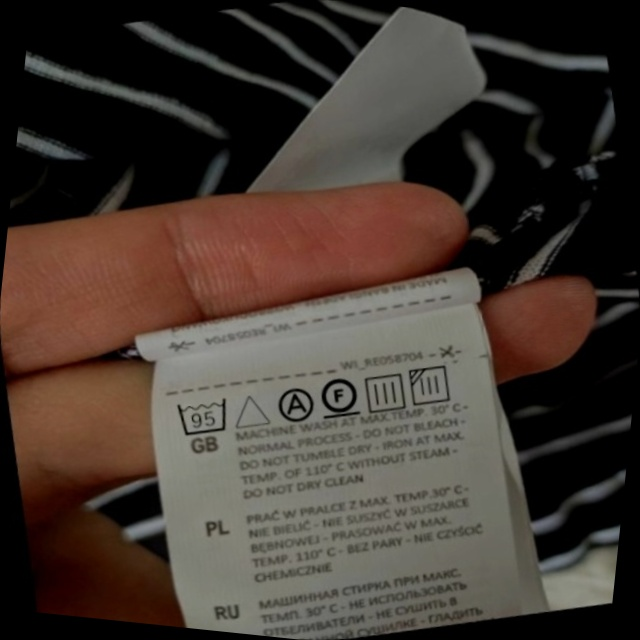95C: (170, 388, 238, 444)
bleach: (227, 384, 275, 436)
drip_dry: (357, 364, 414, 420)
drip_dry_in_shade: (403, 357, 462, 414)
dry_clean: (270, 380, 320, 429)
dry_clean_petrol_only: (313, 367, 366, 425)
